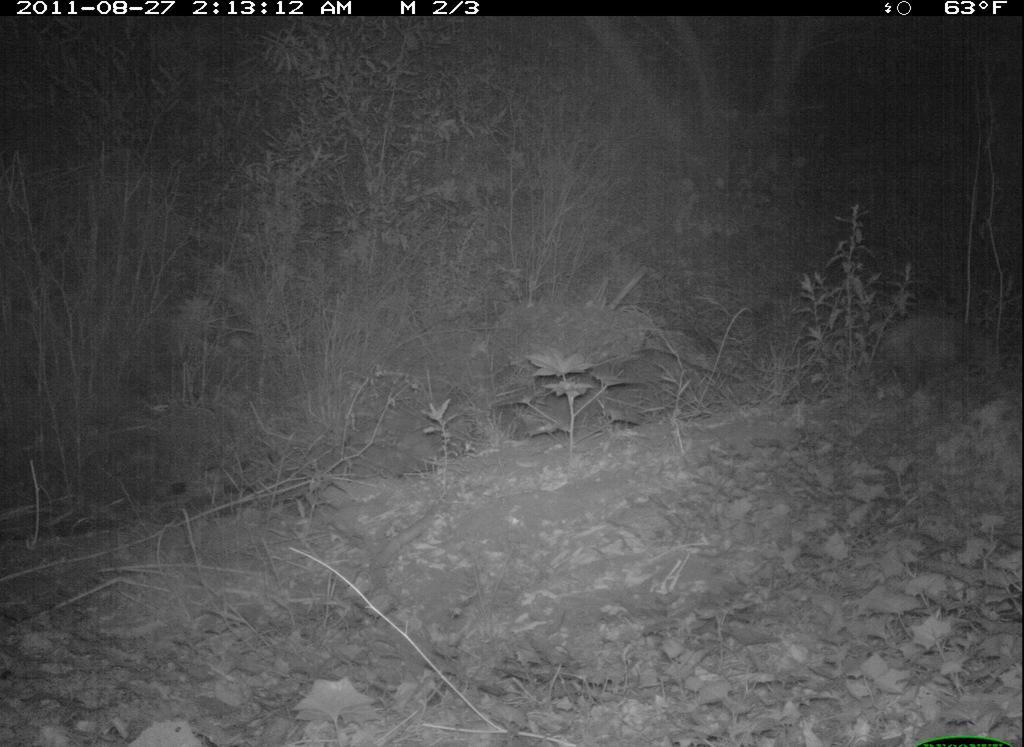opossum: (857, 303, 1009, 409)
